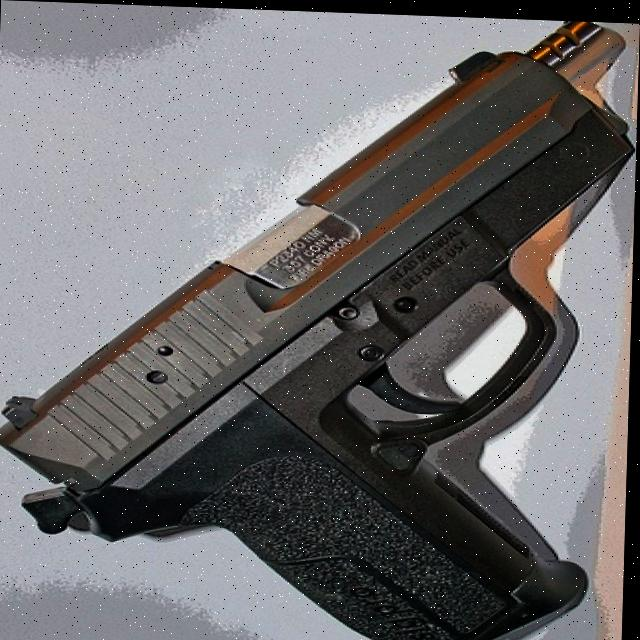pistol: (0, 0, 634, 640)
